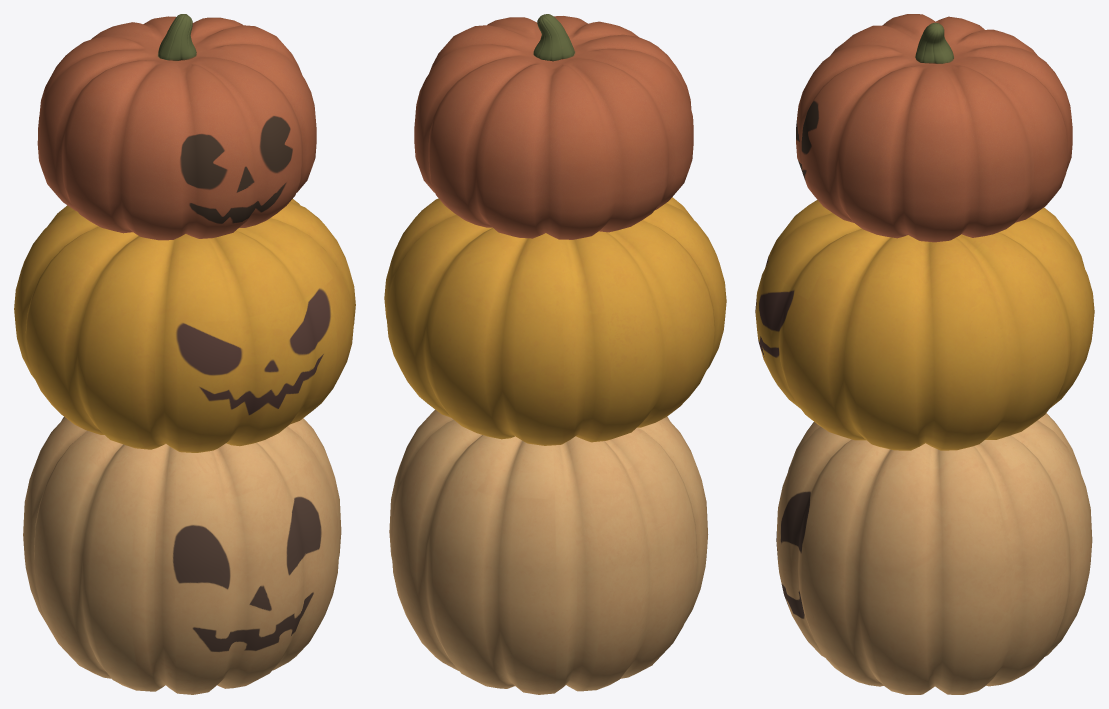
Rendered from ac-pumpkin-stack.glb.
3 views of the same model, side by side, from view 1: azimuth 30°, elevation 25°; view 2: azimuth 150°, elevation 25°; view 3: azimuth 270°, elevation 25° (orthographic).
Visible parts, largest first — view 1: Object_4, Object_7, Object_3; view 2: Object_4, Object_7, Object_3; view 3: Object_4, Object_7, Object_3.
Part boxes in pixels (<box>): Object_4: <box>23,417,341,694</box>; Object_7: <box>14,199,355,452</box>; Object_3: <box>37,14,316,240</box>; Object_4: <box>389,409,708,694</box>; Object_7: <box>384,197,726,445</box>; Object_3: <box>414,14,693,239</box>; Object_4: <box>776,413,1092,694</box>; Object_7: <box>755,200,1094,450</box>; Object_3: <box>796,14,1072,242</box>.
Bounding box in the file's own units: 1.89 × 3.95 × 1.89.
Materials: 3 (3 with a texture image).
